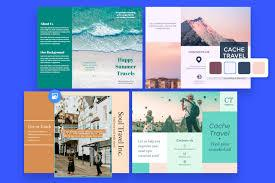paper: (24, 7, 269, 178)
